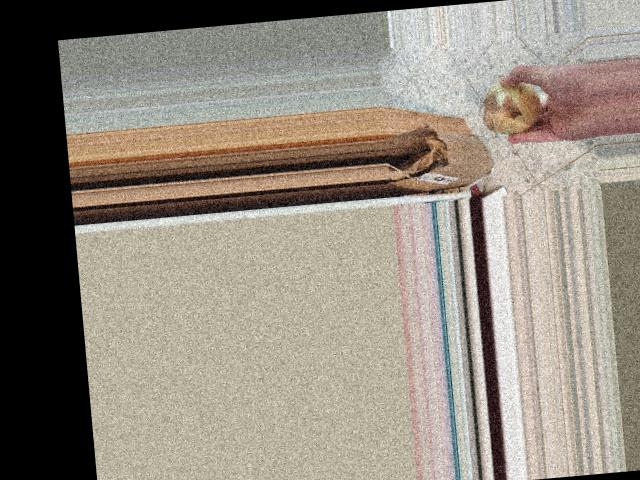onion: (478, 73, 549, 136)
